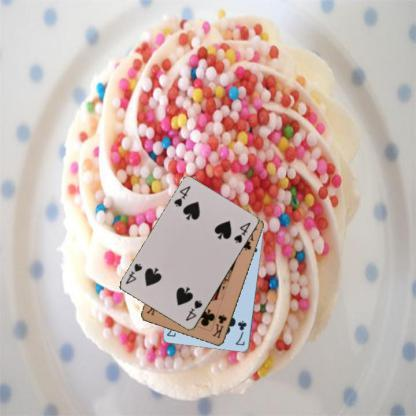4s: (171, 183, 192, 209), (183, 298, 204, 322)
7c: (233, 318, 248, 347)
Kc: (209, 312, 228, 340)
